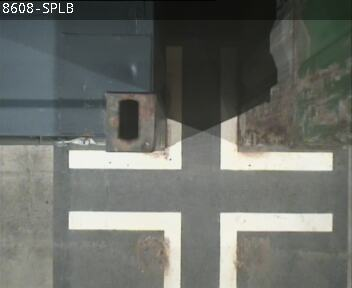groundmarker_1: (68, 48, 332, 171), (66, 209, 333, 286)
